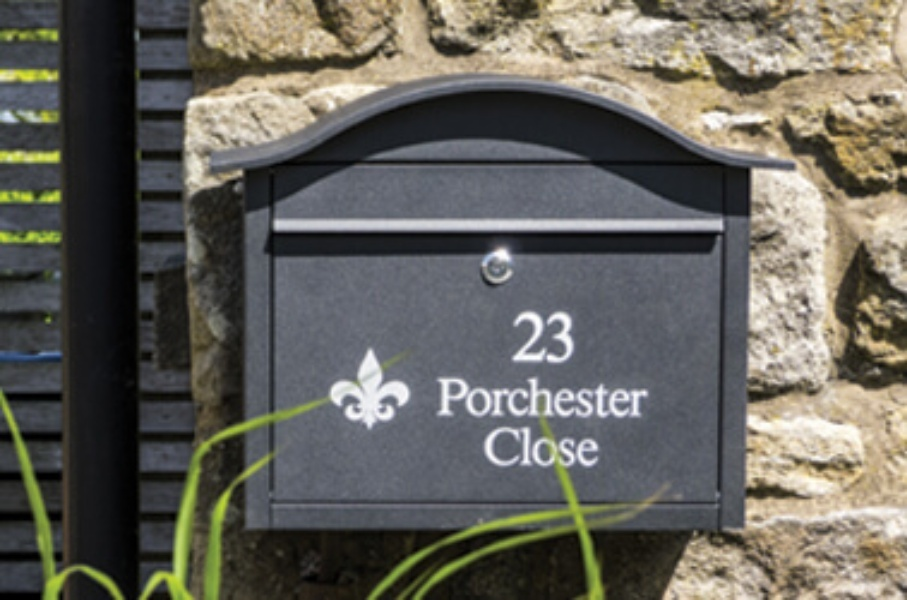text: (513, 310, 528, 365), (529, 310, 544, 365), (545, 310, 560, 365), (561, 310, 576, 365), (497, 425, 512, 469), (513, 425, 528, 469), (529, 425, 544, 469), (545, 425, 560, 469), (561, 425, 576, 469), (577, 425, 592, 469), (449, 375, 464, 418), (465, 375, 480, 418), (481, 375, 496, 418), (497, 375, 512, 418), (513, 375, 528, 418), (529, 375, 544, 418), (545, 375, 560, 418), (561, 375, 576, 418), (577, 375, 592, 418), (593, 375, 608, 418), (609, 375, 624, 418), (625, 375, 640, 418), (483, 425, 496, 469), (435, 375, 448, 418), (641, 375, 651, 418), (593, 425, 600, 469), (509, 310, 512, 365)
